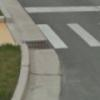crosswalks: (38, 24, 100, 48)
